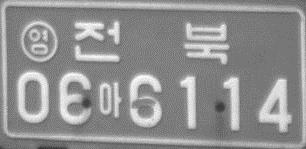0: (16, 70, 49, 124)
1: (171, 74, 207, 131), (214, 76, 250, 131)
4: (258, 77, 291, 131)
6: (128, 73, 163, 128), (58, 70, 91, 126)
아: (97, 80, 123, 118)
영: (19, 20, 58, 63)
전북_D: (72, 20, 229, 66)
